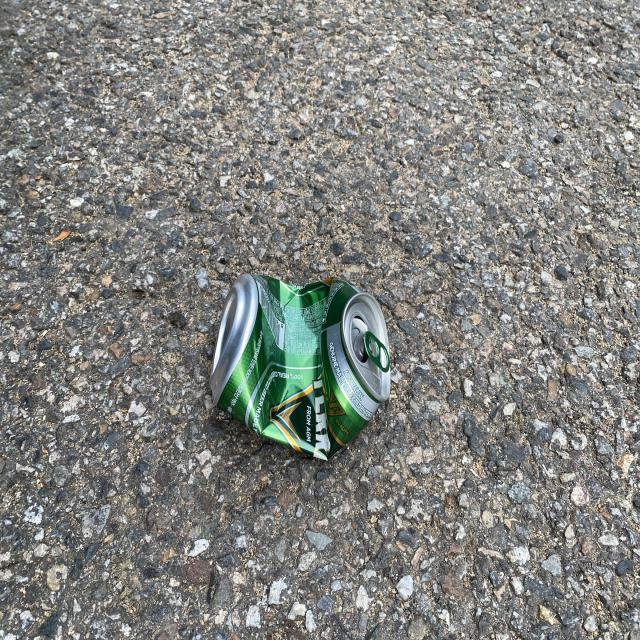can: (210, 274, 391, 460)
